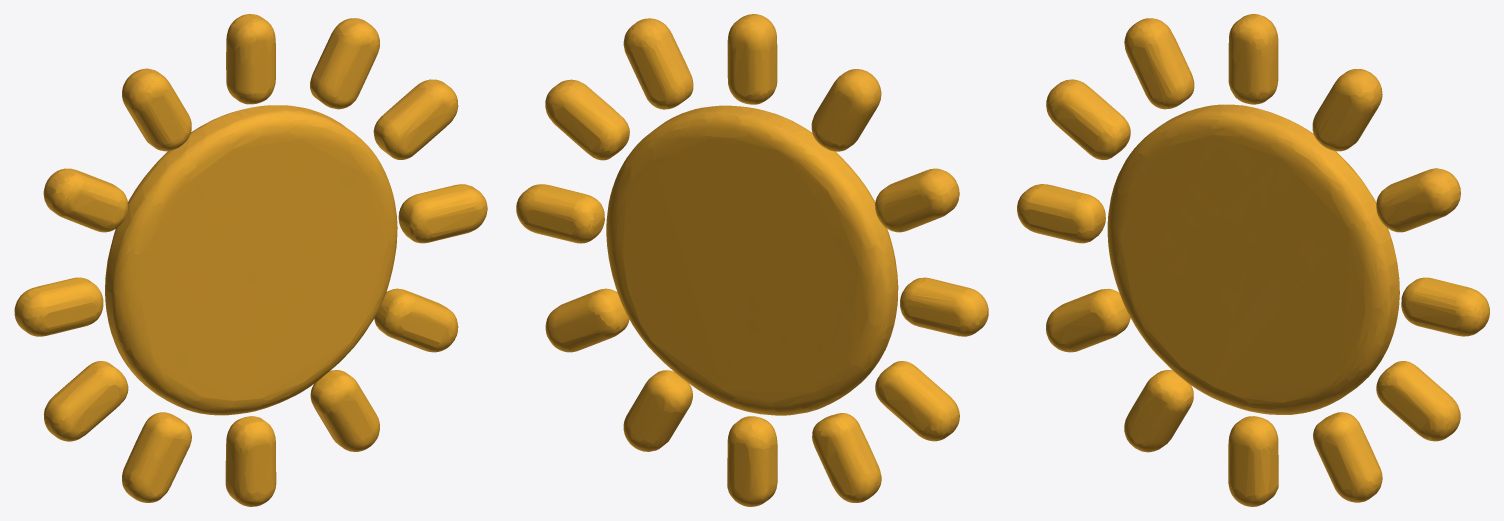
The model's file is zon.glb.
3 views of the same model, side by side, from view 1: azimuth 30°, elevation 25°; view 2: azimuth 150°, elevation 25°; view 3: azimuth 330°, elevation 25° (orthographic).
Parts seen in each view (by area): view 1: Mesh_0; view 2: Mesh_0; view 3: Mesh_0.
Part boxes in pixels (<box>): Mesh_0: <box>14,14,487,506</box>; Mesh_0: <box>516,14,988,506</box>; Mesh_0: <box>1017,14,1489,506</box>.
Size of the model in its own units: 1.9 by 1.9 by 0.1591.
1 material, 1 textured.
